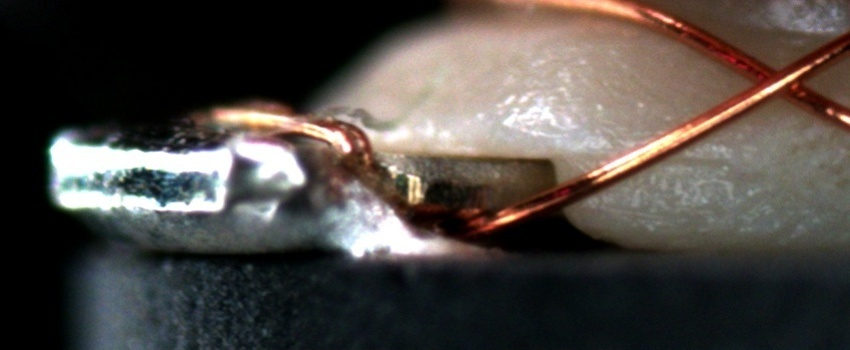CL: (729, 46, 830, 110)
DL: (578, 145, 733, 185)
TE: (195, 102, 375, 169)
